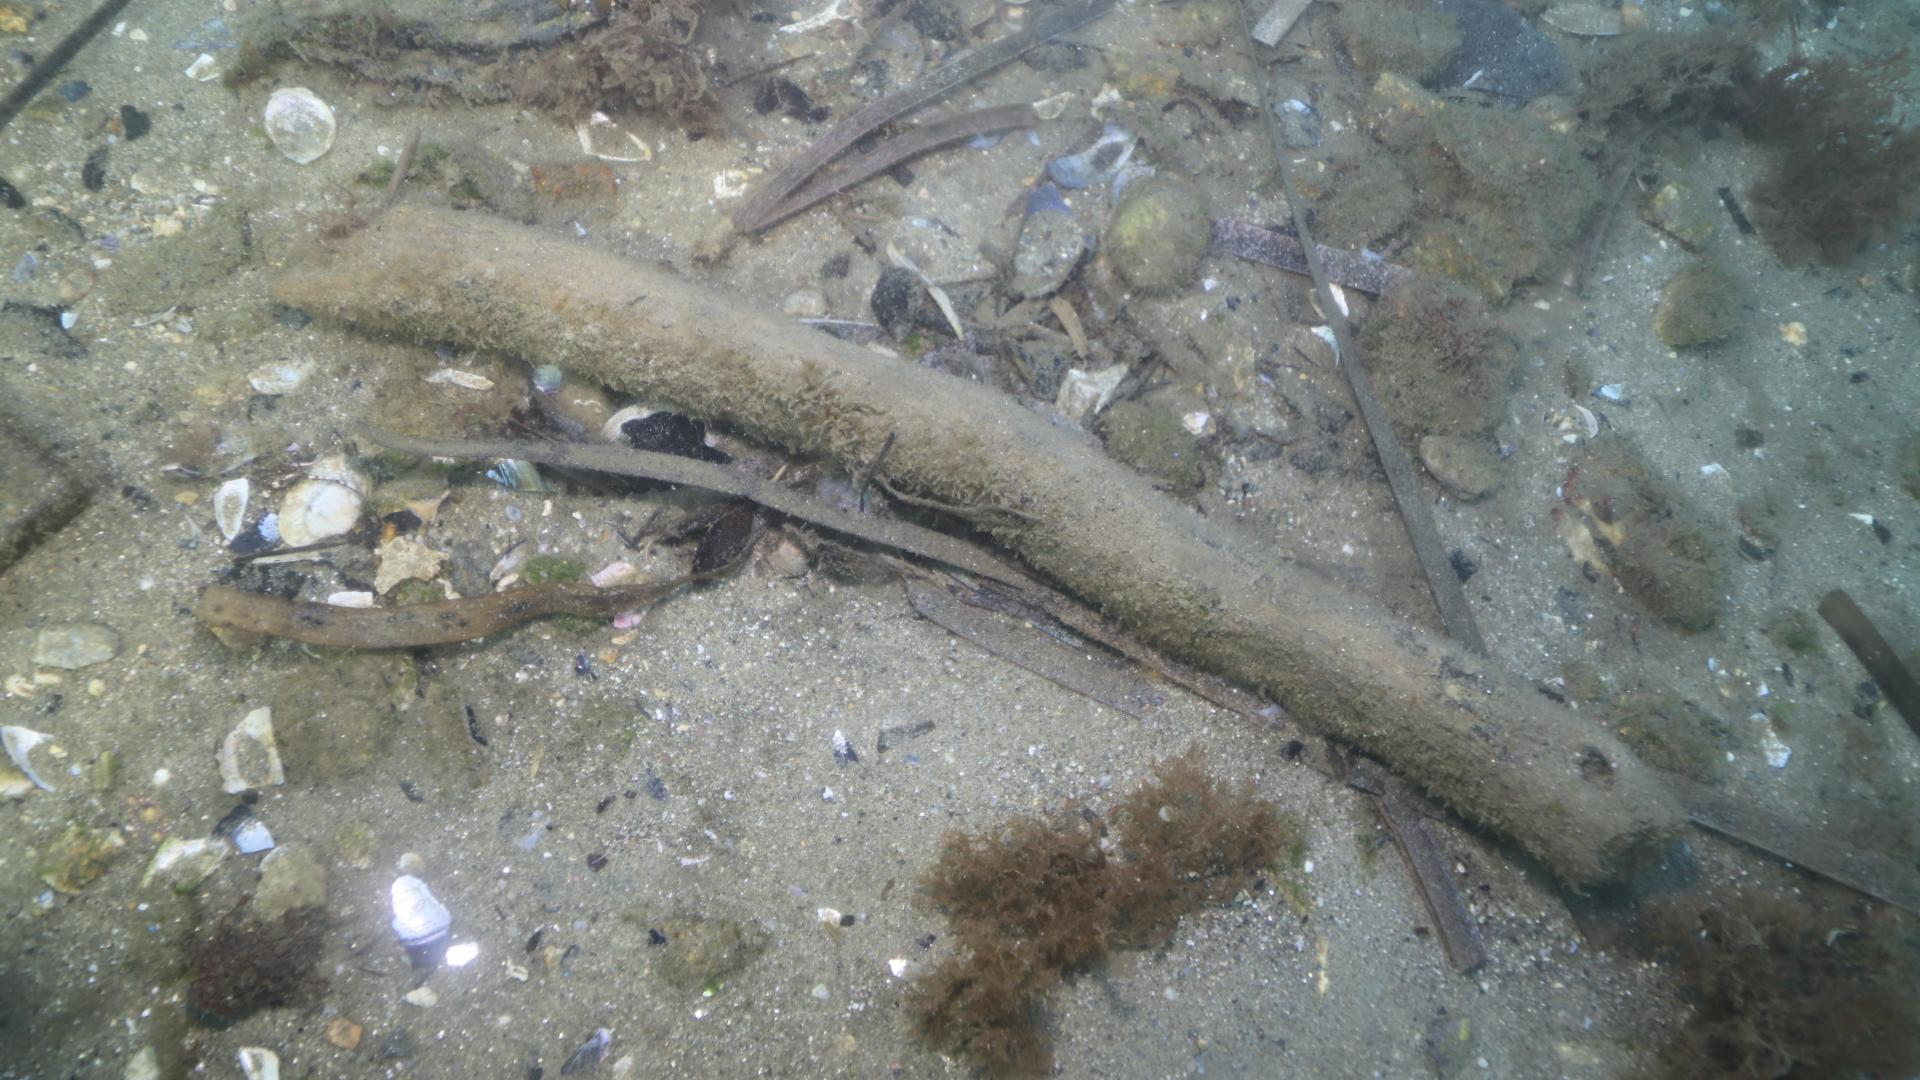wood: (265, 202, 1691, 909)
